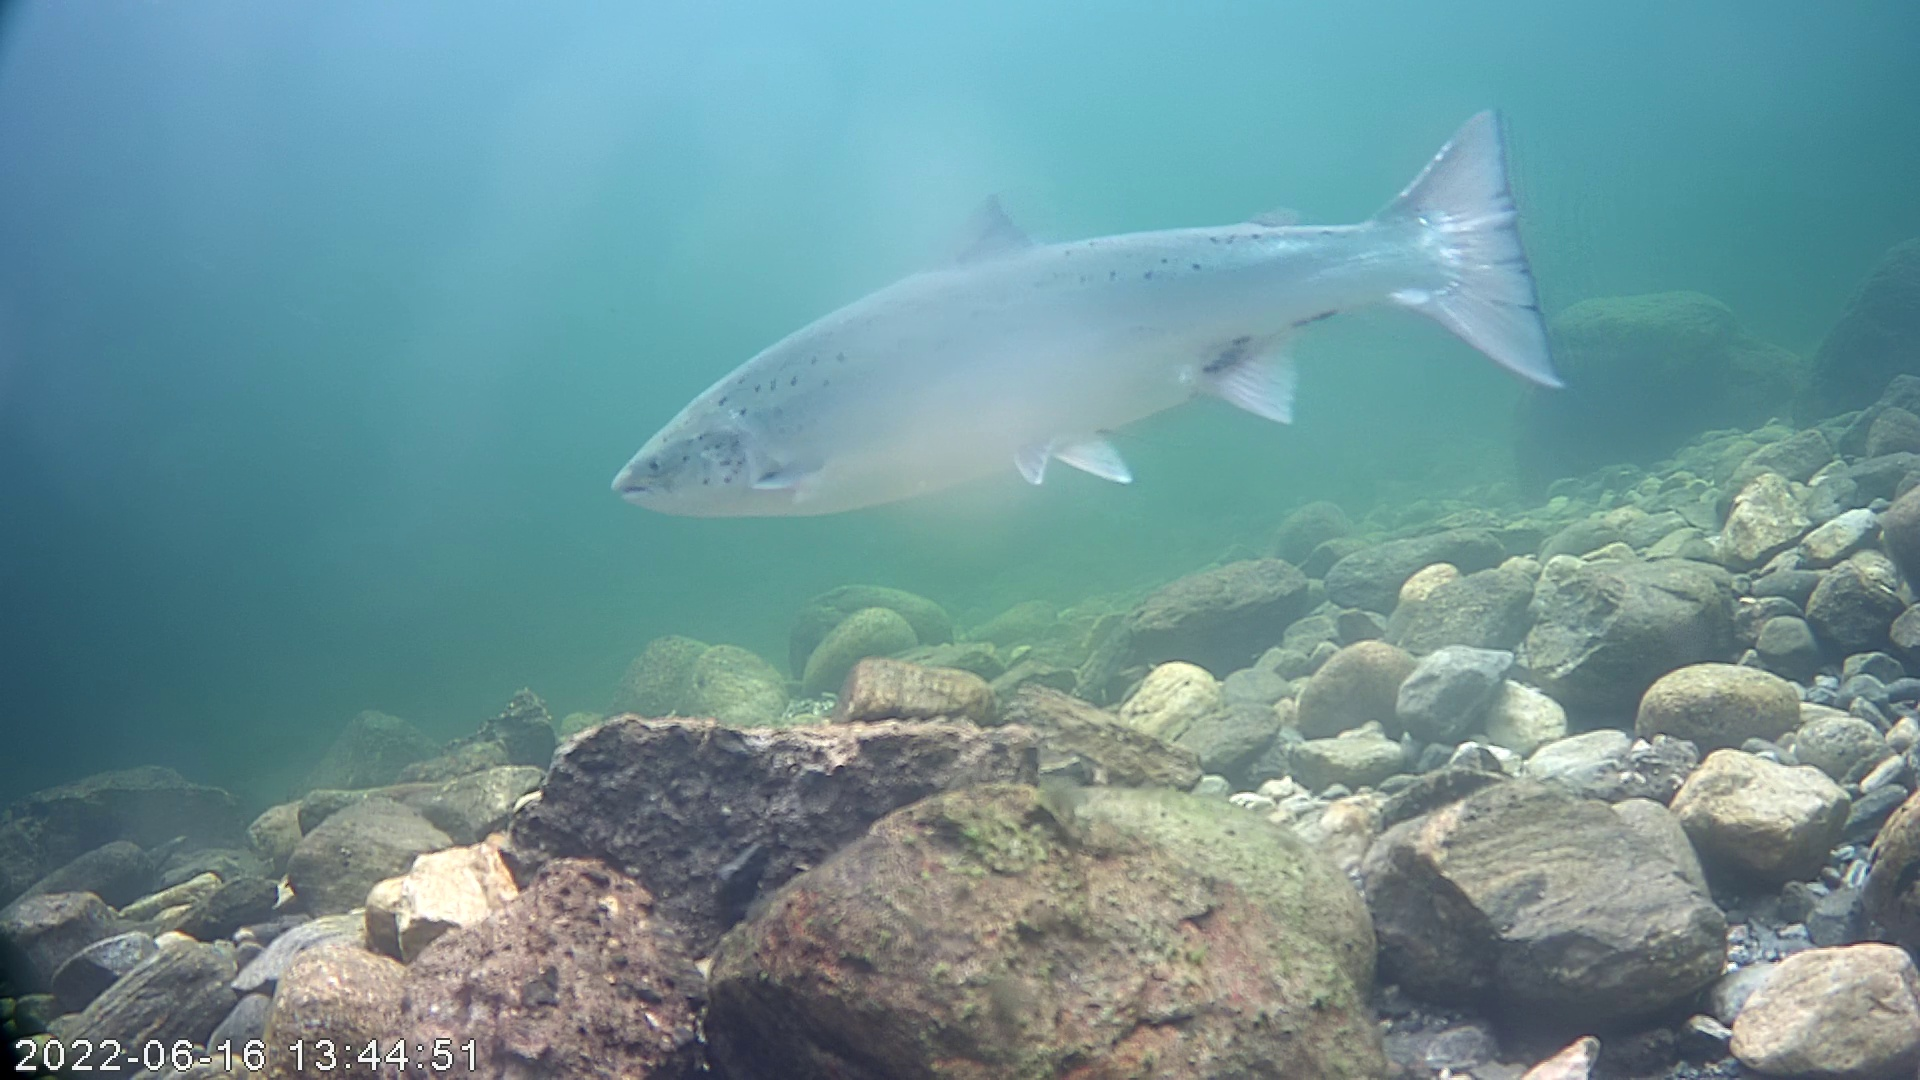salmon: (607, 102, 1575, 525)
